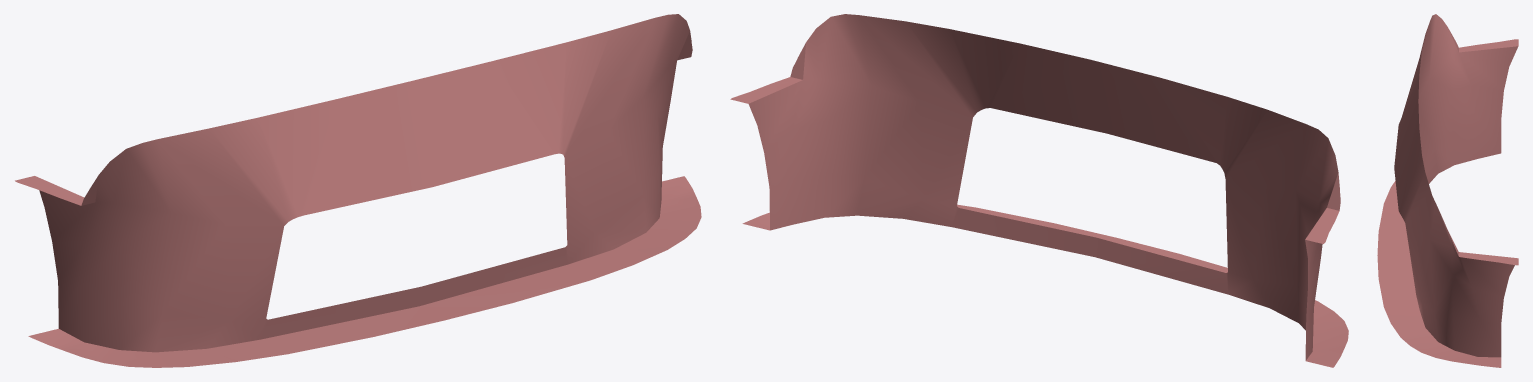
File: MX5_FB02_Trim.fbx
3 renders of one model, left to right at view 1: azimuth 30°, elevation 25°; view 2: azimuth 150°, elevation 25°; view 3: azimuth 270°, elevation 25°, orthographic. The views are drawn at different scales.
Parts seen in each view (by area): view 1: MX5_FB02_Trim; view 2: MX5_FB02_Trim; view 3: MX5_FB02_Trim.
Boxes of the visible parts, left/top/right/bottom form: MX5_FB02_Trim: left=15, top=14, right=701, bottom=367; MX5_FB02_Trim: left=730, top=14, right=1348, bottom=367; MX5_FB02_Trim: left=1377, top=14, right=1518, bottom=367.
Size of the model in its own units: 156 by 50.53 by 41.26.
